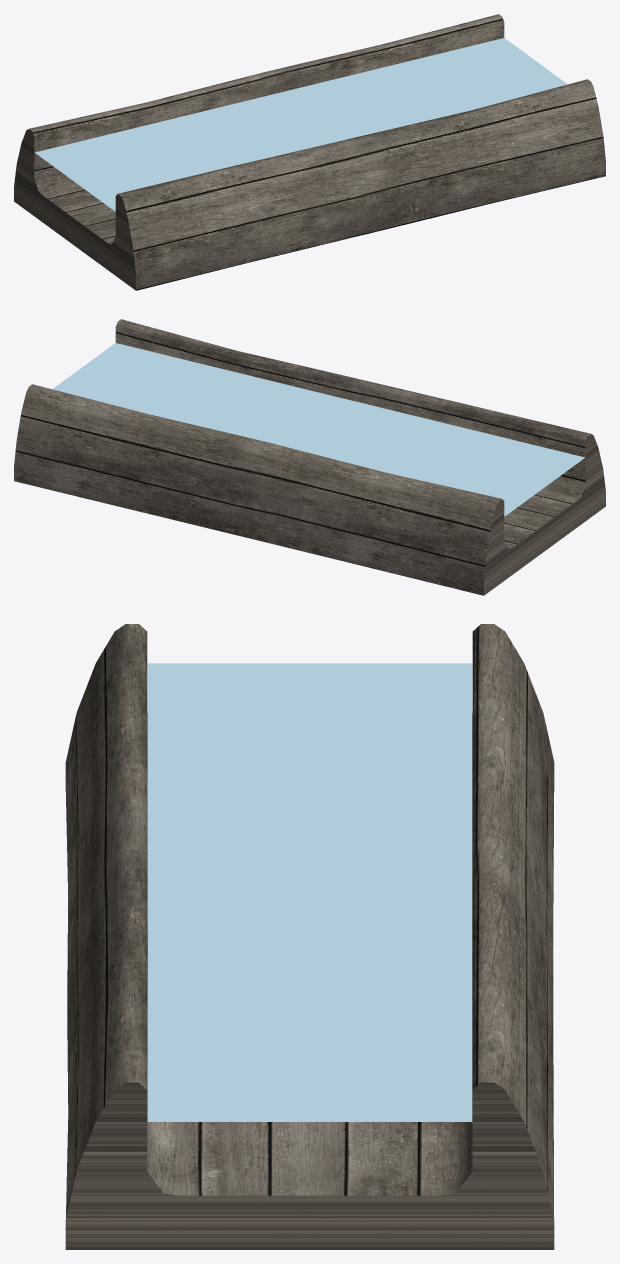
File: straight.glb
3 renders of one model, top to bottom at view 1: azimuth 30°, elevation 25°; view 2: azimuth 150°, elevation 25°; view 3: azimuth 270°, elevation 25°, orthographic. The views are drawn at different scales.
Visible parts, largest first — view 1: Channel, Water; view 2: Channel, Water; view 3: Water, Channel.
Part boxes in pixels (x1,y1,x2,y2): Channel: (14, 14, 605, 290); Water: (35, 38, 567, 211); Channel: (14, 319, 605, 595); Water: (52, 343, 584, 516); Water: (147, 663, 472, 1121); Channel: (65, 624, 554, 1249).
Bounding box in the file's own units: 2 × 0.34 × 0.9.
2 materials, 1 textured.
